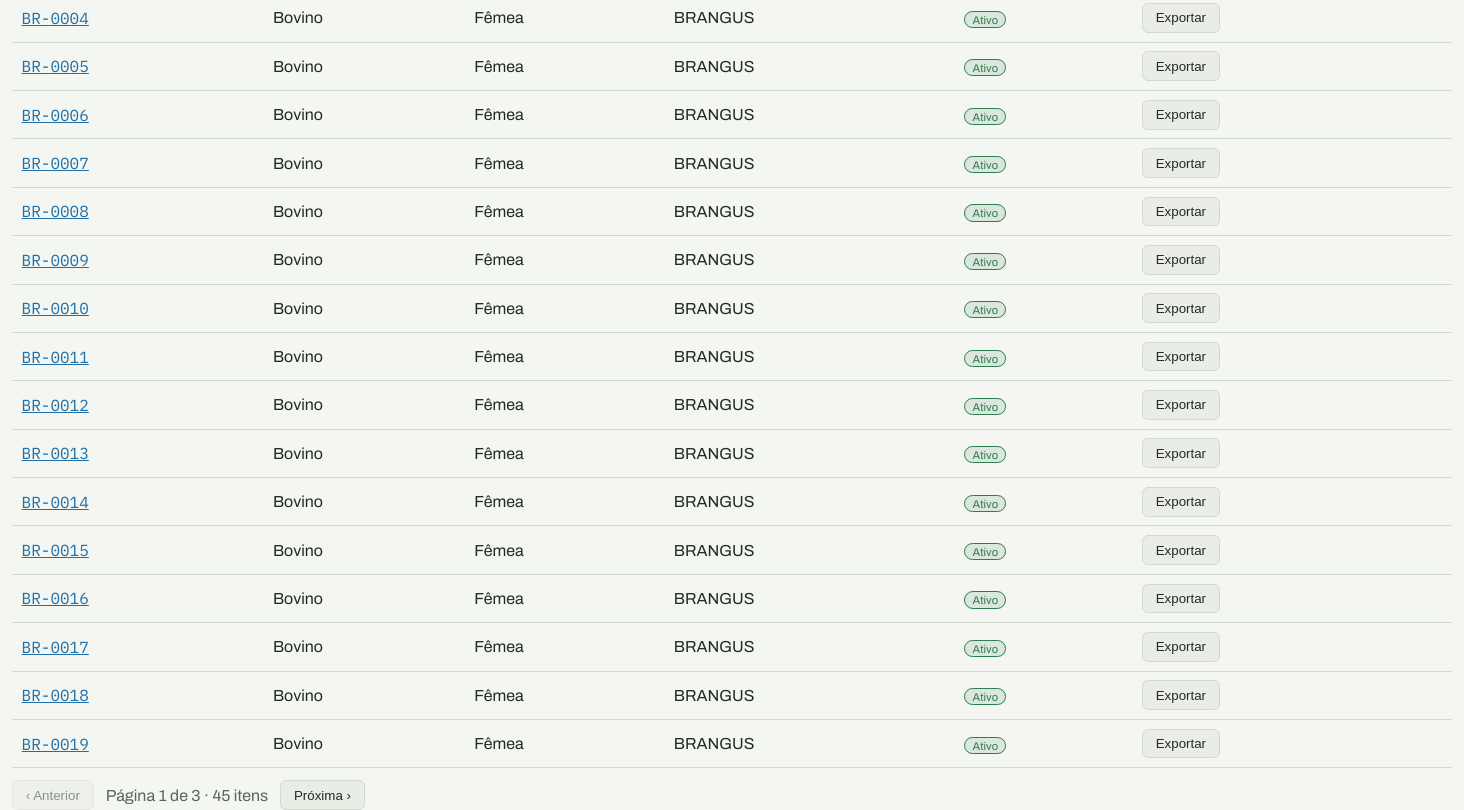
Test: Animals pagination › pages a long animal list (20/page) and advances
(page scrolled)
Check: the text "BR-0020" is not shown
Check: the text "Página 1 de 3 · 45 itens" is shown, box [106,787,268,804]
Click the button "Próxima ›".
click(322, 795)  # box [280,780,365,809]
(page scrolled)
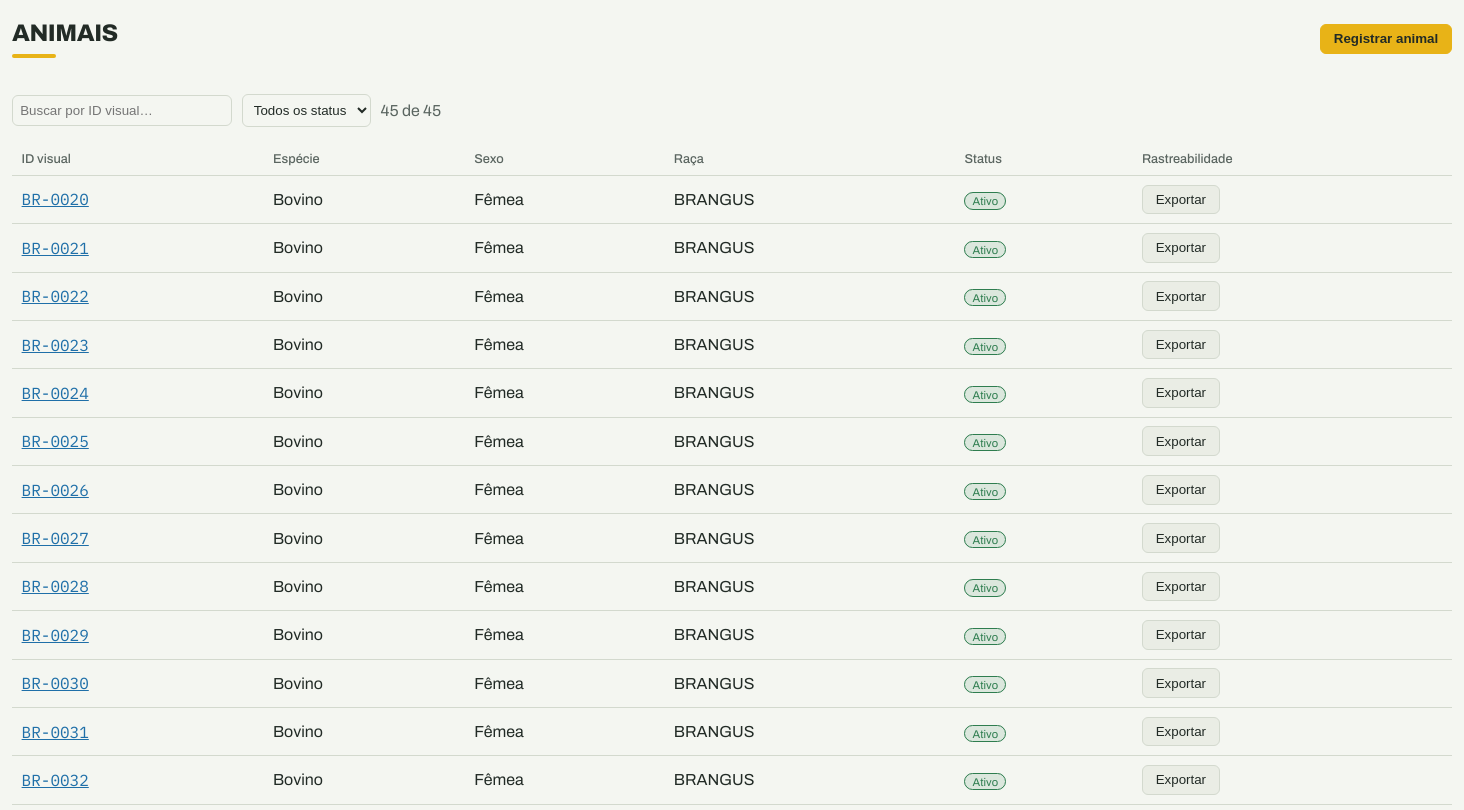
Check: the link "BR-0020" is shown, box [22,190,89,210]
